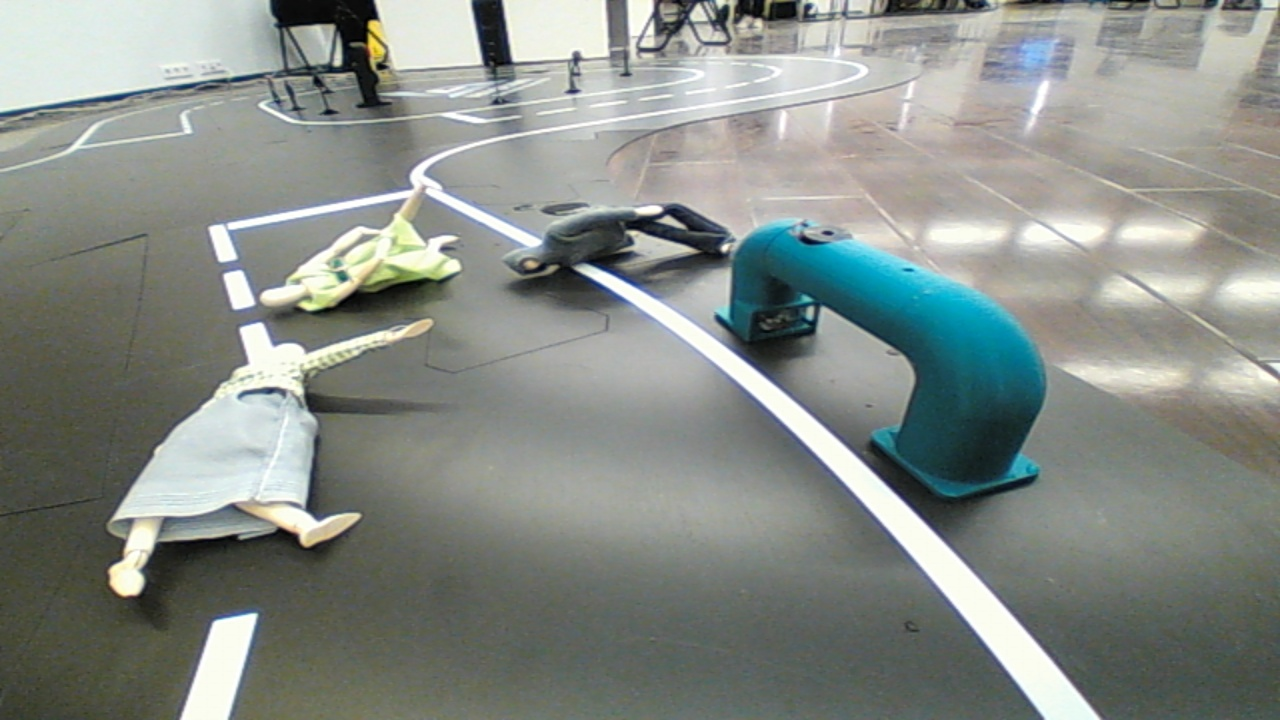Pedestrian crossing: (704, 212, 1047, 515)
Road works: (67, 303, 451, 605), (241, 167, 512, 320), (494, 184, 758, 298)
